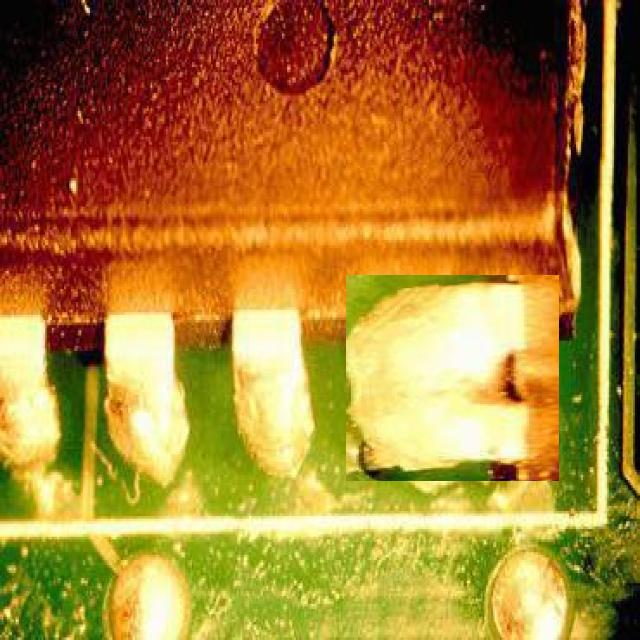Short_circuit: (348, 273, 558, 483)
